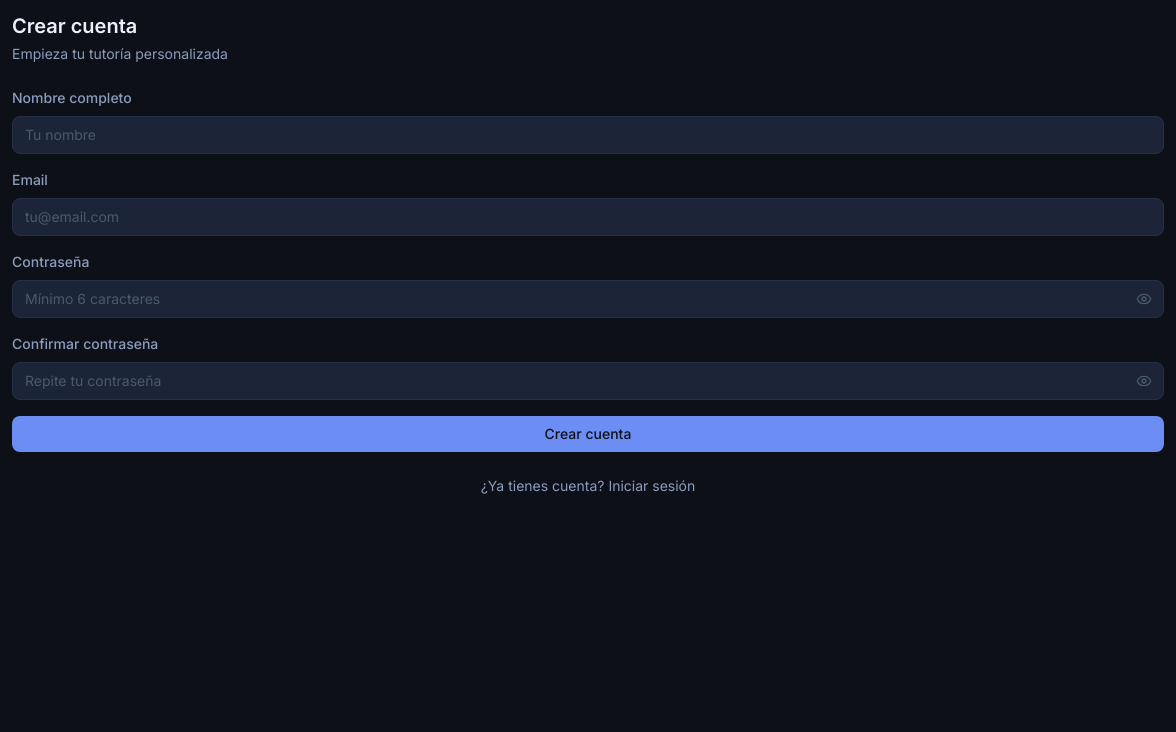
it: RegisterForm › shows error when passwords do not match
Step 1. Type "Álvaro" into the field labelled "Nombre completo" → (588, 135), box top-left (12, 116), bottom-right (1164, 154)
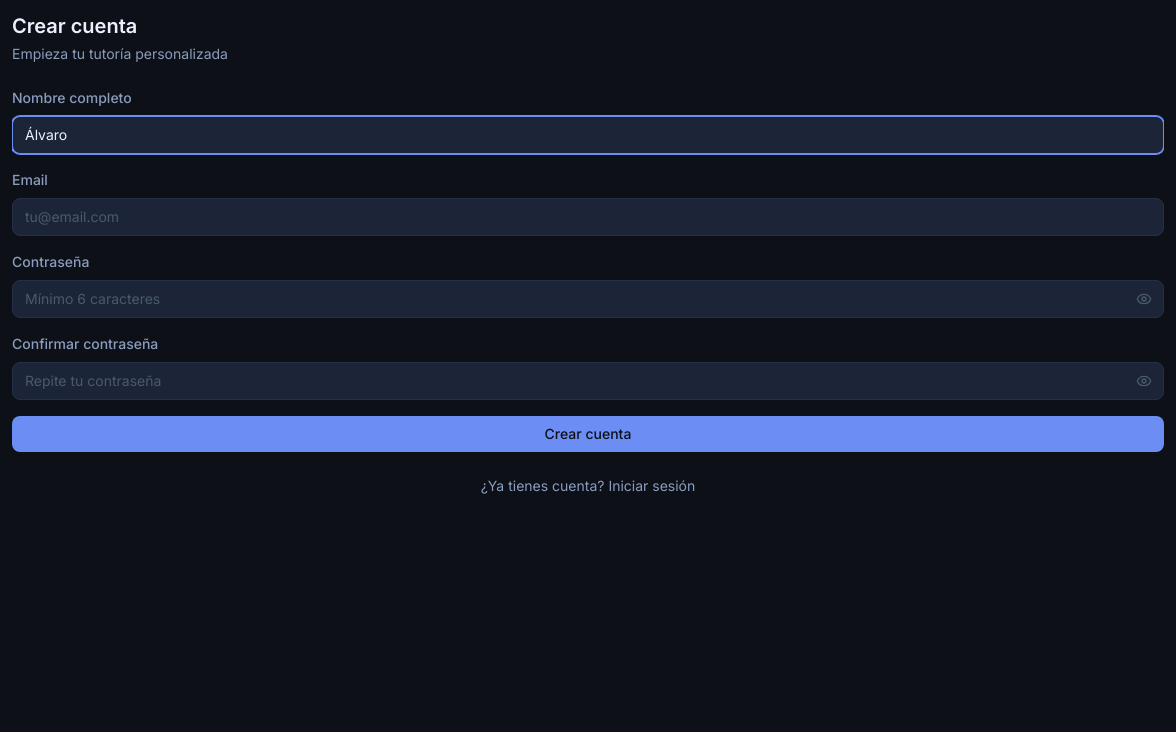
Step 2. Type "test@cdia.es" into the field labelled "Email" → (588, 217), box top-left (12, 198), bottom-right (1164, 236)
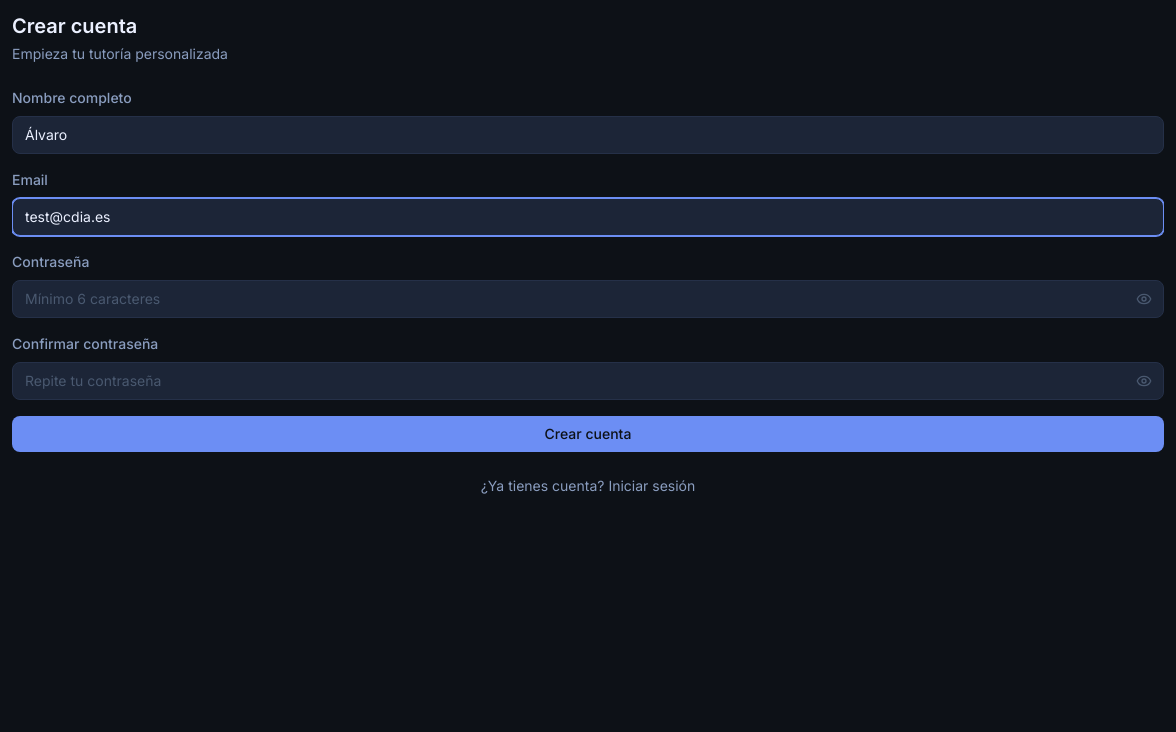
Step 3. Type "password123" into the password field labelled "Contraseña" → (588, 299), box top-left (12, 280), bottom-right (1164, 318)
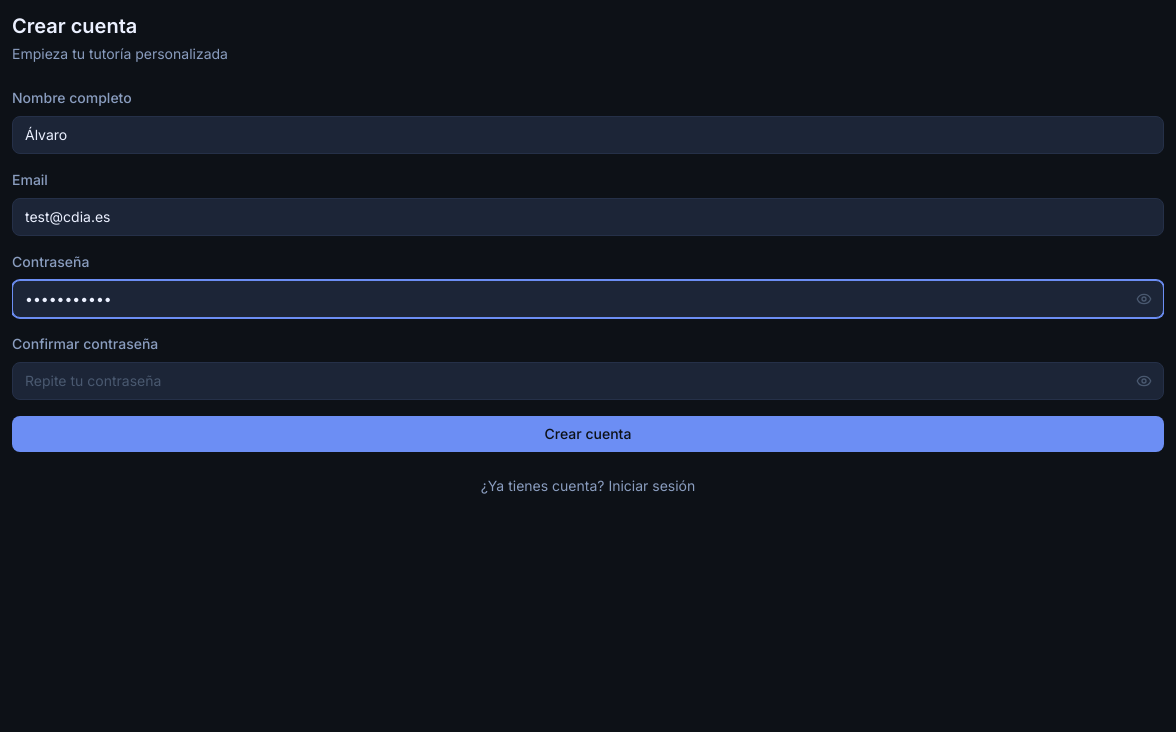
Step 4. Type "different456" into the password field labelled "Confirmar contraseña" → (588, 381), box top-left (12, 362), bottom-right (1164, 400)
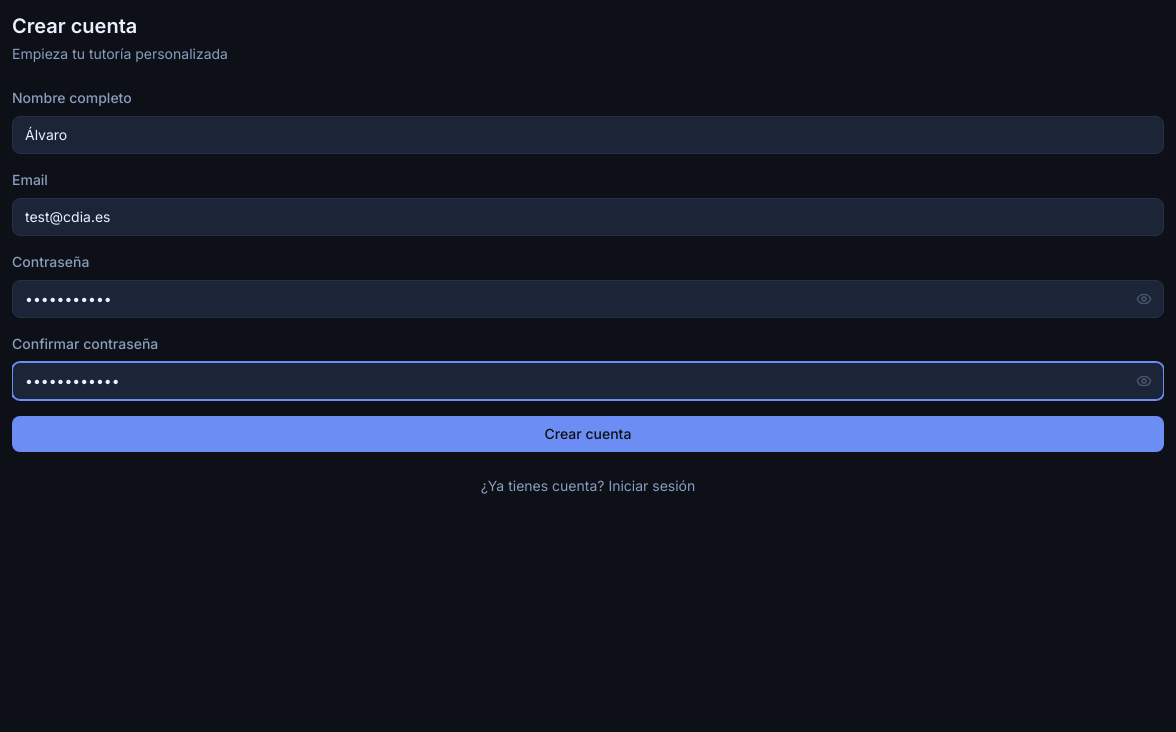
Step 5. Click the button "Crear cuenta" → click(588, 434), box top-left (12, 416), bottom-right (1164, 452)
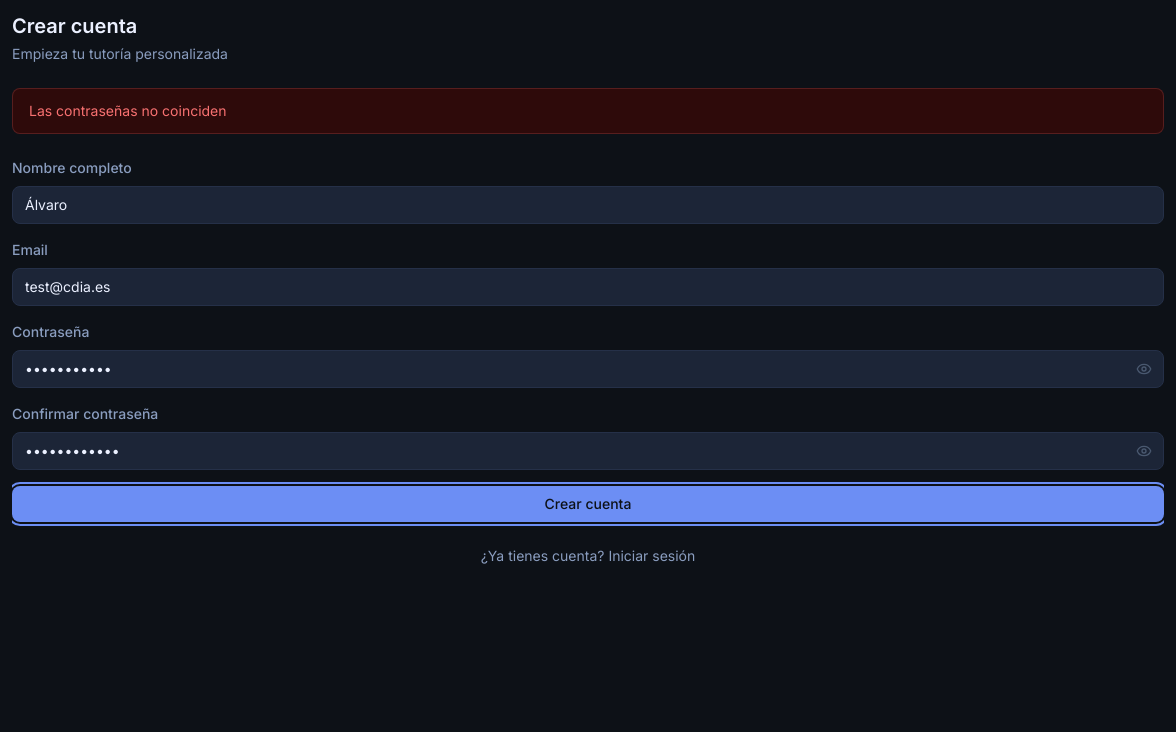
Expected: the message shows "no coinciden", top-left (29, 102), bottom-right (226, 119)
